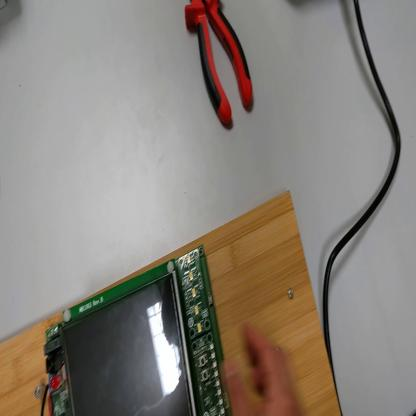hand: (228, 328, 302, 416)
low voltage board: (44, 245, 235, 416)
pliers: (185, 1, 255, 130)
working area: (2, 192, 343, 416)
